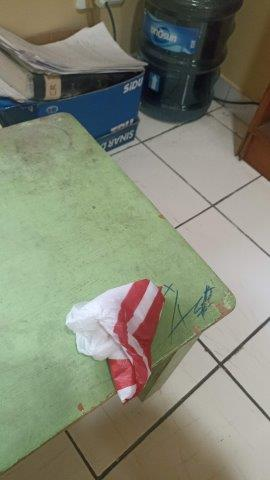plastik: (66, 277, 164, 406)
